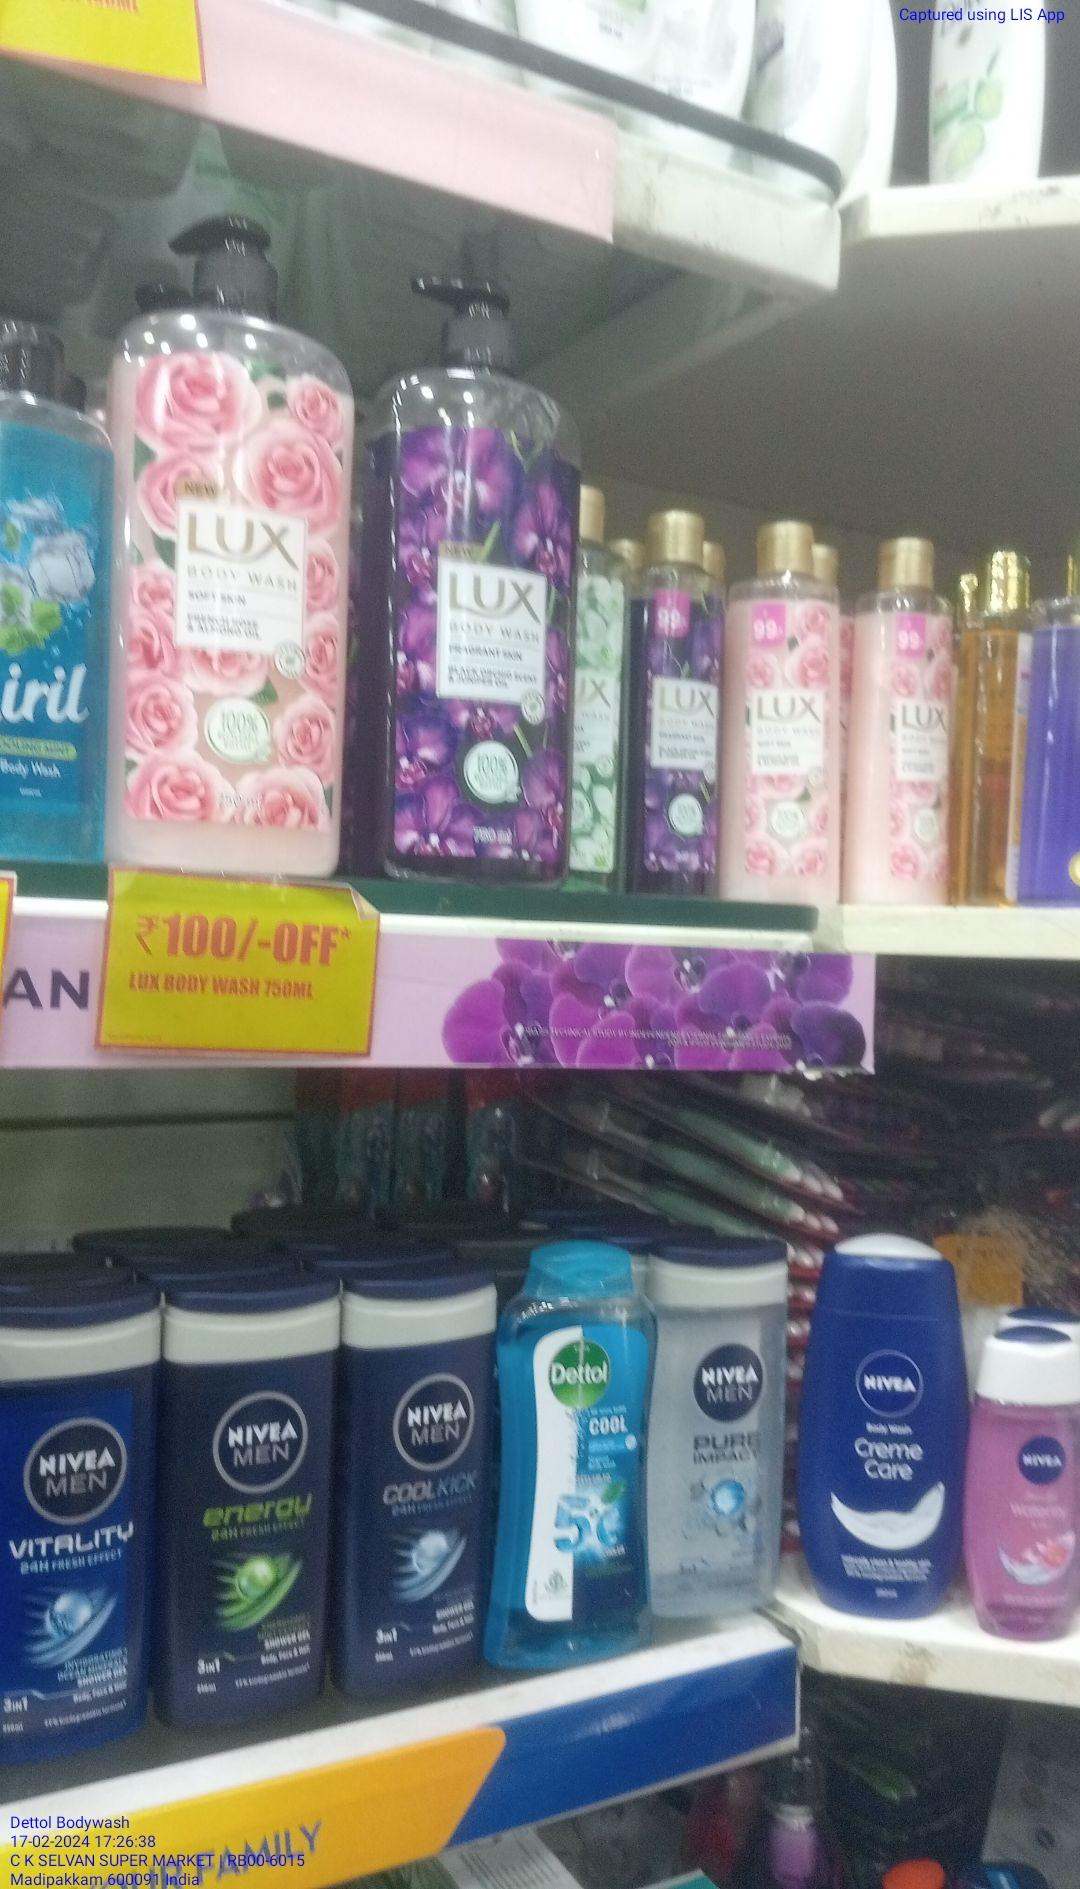Dettol_Bodywash_Cool: (488, 1239, 654, 1661)
Lux_Black_Orchid_Scent_and_Juniper_Oil_Body_Wash_245ML: (626, 492, 718, 891)
Nivea_Creme_Care_Body_Wash_250ML: (806, 1233, 964, 1615)
